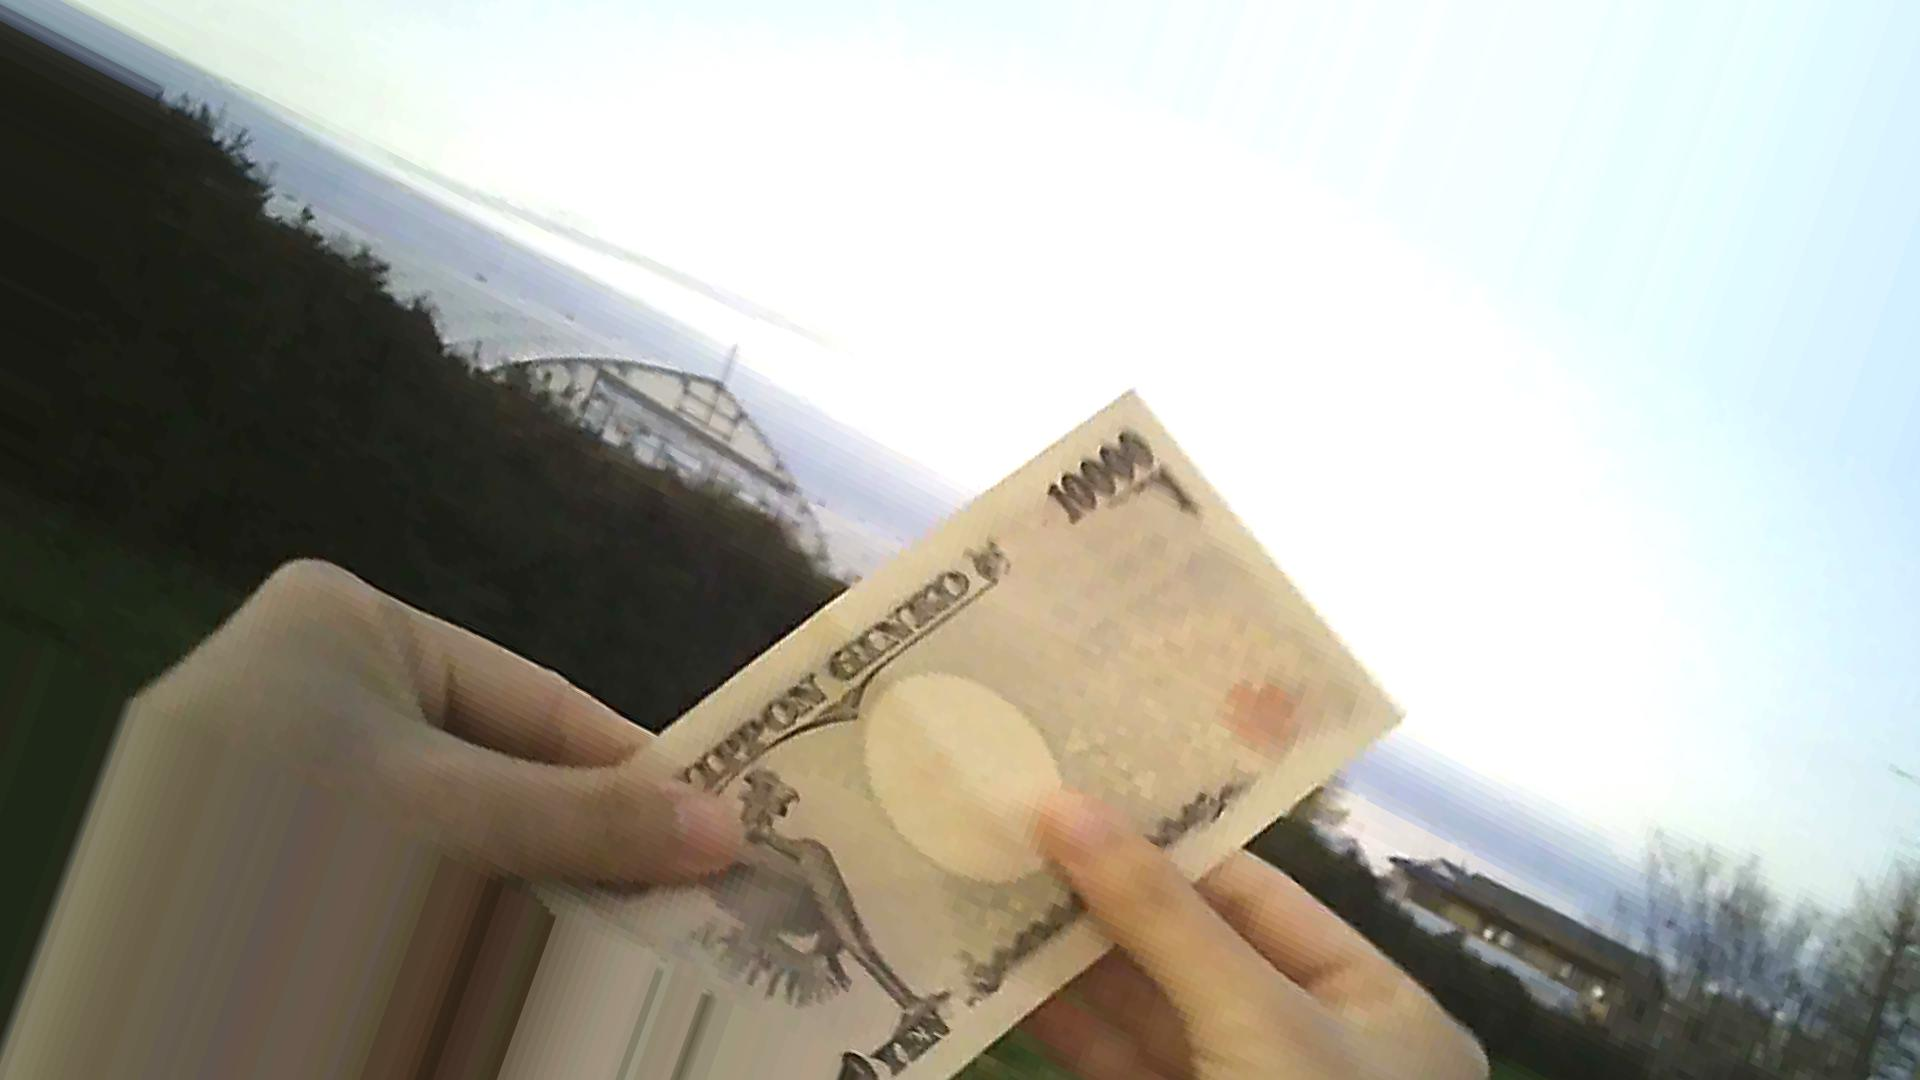10,000 Yen: (516, 360, 1433, 1062)
